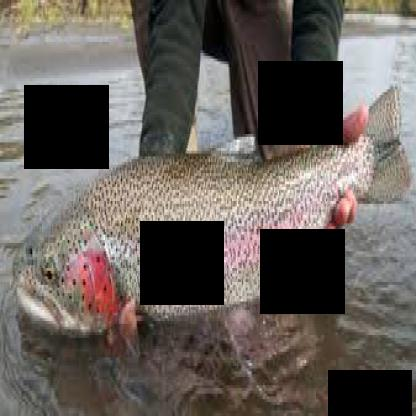fish: (12, 80, 410, 348)
